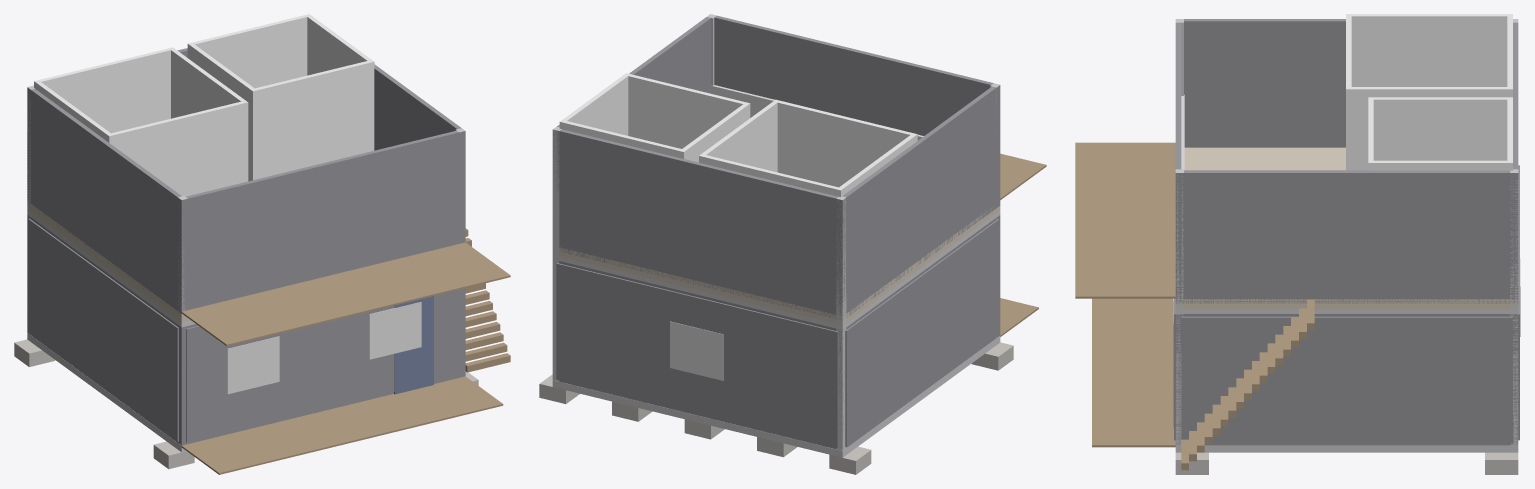
Rendered from Duplex-20-Base-AncientWallGrey-LOD3.glb.
The picture shows the model from 3 angles, left to right: view 1: azimuth 30°, elevation 25°; view 2: azimuth 150°, elevation 25°; view 3: azimuth 270°, elevation 25°; orthographic projection. The views are drawn at different scales.
Parts seen in each view (by area): view 1: ExteriorShellUpper, ExteriorPanelsStandard, StudyUpper, BedroomUpper, BalconyUpper, BalconyGround, WindowsStandard, StaircaseExternal, ExteriorShell, EntryDoor, FoundationBlocks, FloorUpper (+3 smaller); view 2: ExteriorShellUpper, ExteriorPanelsStandard, BedroomUpper, StudyUpper, FloorUpper, VerticalStructure, FoundationBlocks, BaseFrame, ExteriorShell, WindowsStandard, TopFrame, BalconyUpper (+2 smaller); view 3: ExteriorShellUpper, ExteriorPanelsStandard, BalconyUpper, BedroomUpper, BalconyGround, StudyUpper, FloorUpper, StaircaseExternal, ExteriorShell, VerticalStructure, BaseFrame, TopFrame (+1 smaller).
Part boxes in pixels (left/top/right/bottom): ExteriorShellUpper: left=27, top=48, right=465, bottom=315; ExteriorPanelsStandard: left=28, top=218, right=461, bottom=442; StudyUpper: left=187, top=14, right=374, bottom=181; BedroomUpper: left=34, top=47, right=248, bottom=196; BalconyUpper: left=181, top=242, right=510, bottom=346; BalconyGround: left=181, top=376, right=503, bottom=474; WindowsStandard: left=227, top=301, right=421, bottom=394; StaircaseExternal: left=465, top=228, right=510, bottom=372; ExteriorShell: left=27, top=214, right=465, bottom=445; EntryDoor: left=394, top=296, right=433, bottom=394; FoundationBlocks: left=14, top=339, right=478, bottom=469; FloorUpper: left=27, top=201, right=190, bottom=322; ExteriorShellUpper: left=553, top=15, right=1000, bottom=320; ExteriorPanelsStandard: left=556, top=219, right=999, bottom=447; BedroomUpper: left=699, top=99, right=917, bottom=197; StudyUpper: left=559, top=73, right=750, bottom=162; FloorUpper: left=559, top=206, right=1000, bottom=324; VerticalStructure: left=552, top=14, right=999, bottom=450; FoundationBlocks: left=539, top=342, right=1013, bottom=474; BaseFrame: left=552, top=336, right=1000, bottom=457; ExteriorShell: left=559, top=215, right=1000, bottom=448; WindowsStandard: left=670, top=321, right=723, bottom=380; TopFrame: left=559, top=210, right=1000, bottom=329; BalconyUpper: left=1000, top=153, right=1046, bottom=199; ExteriorShellUpper: left=1175, top=19, right=1518, bottom=303; ExteriorPanelsStandard: left=1174, top=165, right=1519, bottom=443; BalconyUpper: left=1075, top=142, right=1175, bottom=298; BedroomUpper: left=1346, top=14, right=1512, bottom=170; BalconyGround: left=1092, top=298, right=1175, bottom=447; StudyUpper: left=1368, top=97, right=1512, bottom=170; FloorUpper: left=1176, top=147, right=1518, bottom=308; StaircaseExternal: left=1181, top=299, right=1314, bottom=470; ExteriorShell: left=1175, top=314, right=1518, bottom=445; VerticalStructure: left=1175, top=19, right=1518, bottom=445; BaseFrame: left=1175, top=445, right=1518, bottom=452; TopFrame: left=1175, top=309, right=1518, bottom=313.
Size of the model in its own units: 7.94 by 6 by 8.
